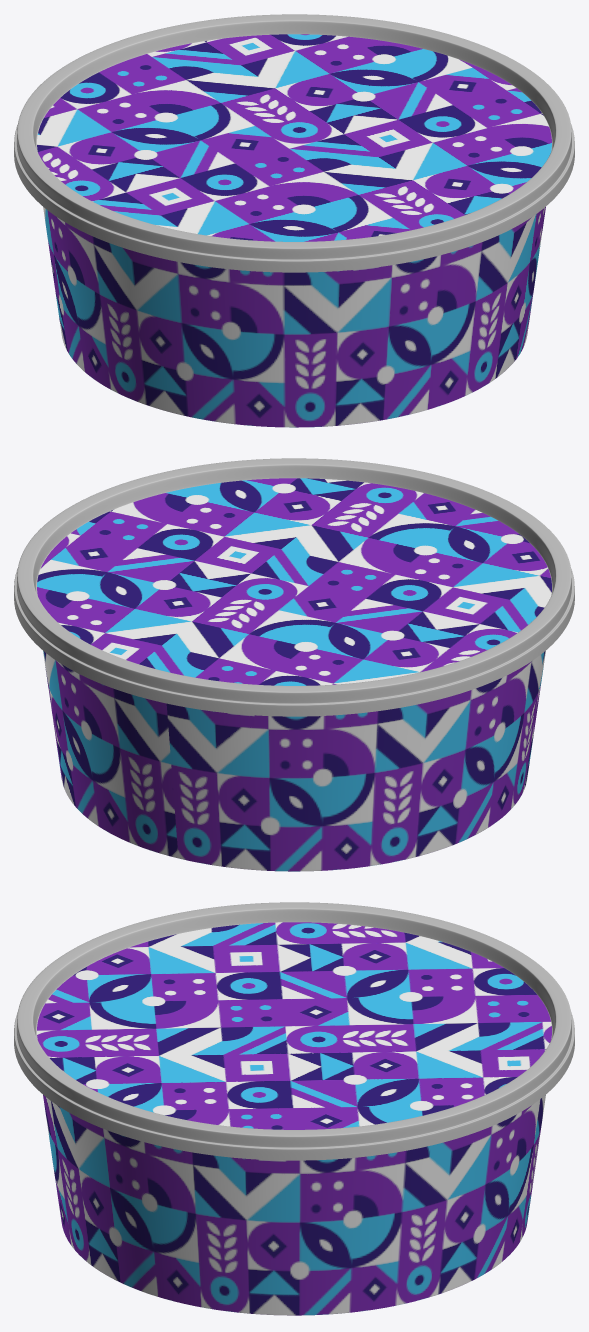
The picture shows the model from 3 angles, top to bottom: view 1: azimuth 30°, elevation 25°; view 2: azimuth 150°, elevation 25°; view 3: azimuth 270°, elevation 25°; orthographic projection.
Visible parts, largest first — view 1: Lid.009, Bottom.009, Lid.008; view 2: Lid.009, Bottom.009, Lid.008; view 3: Lid.009, Bottom.009, Lid.008.
Boxes of the visible parts, left/top/right/bottom form: Lid.009: left=37, top=34, right=551, bottom=241; Bottom.009: left=43, top=207, right=545, bottom=427; Lid.008: left=14, top=14, right=574, bottom=272; Lid.009: left=37, top=478, right=551, bottom=685; Bottom.009: left=43, top=651, right=545, bottom=871; Lid.008: left=14, top=458, right=574, bottom=716; Lid.009: left=37, top=922, right=551, bottom=1129; Bottom.009: left=43, top=1095, right=545, bottom=1315; Lid.008: left=14, top=902, right=574, bottom=1160.
Size of the model in its own units: 0.1502 by 0.0595 by 0.1502.
5 materials, 3 textured.
